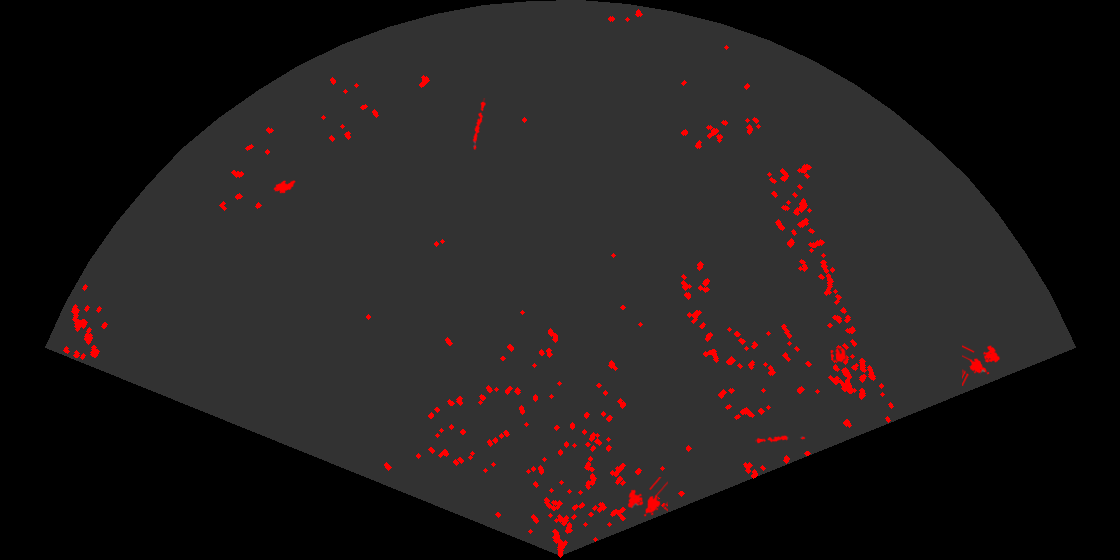AUV: (272, 179, 297, 195)
ball: (829, 347, 847, 364)
cage: (626, 477, 668, 518), (962, 343, 1002, 386)
chain: (471, 98, 487, 150), (755, 434, 806, 445)
